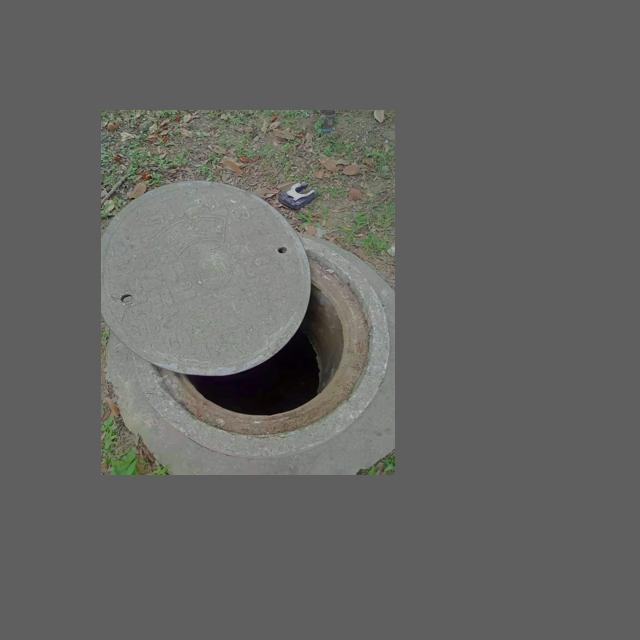uncovered: (101, 179, 395, 457)
